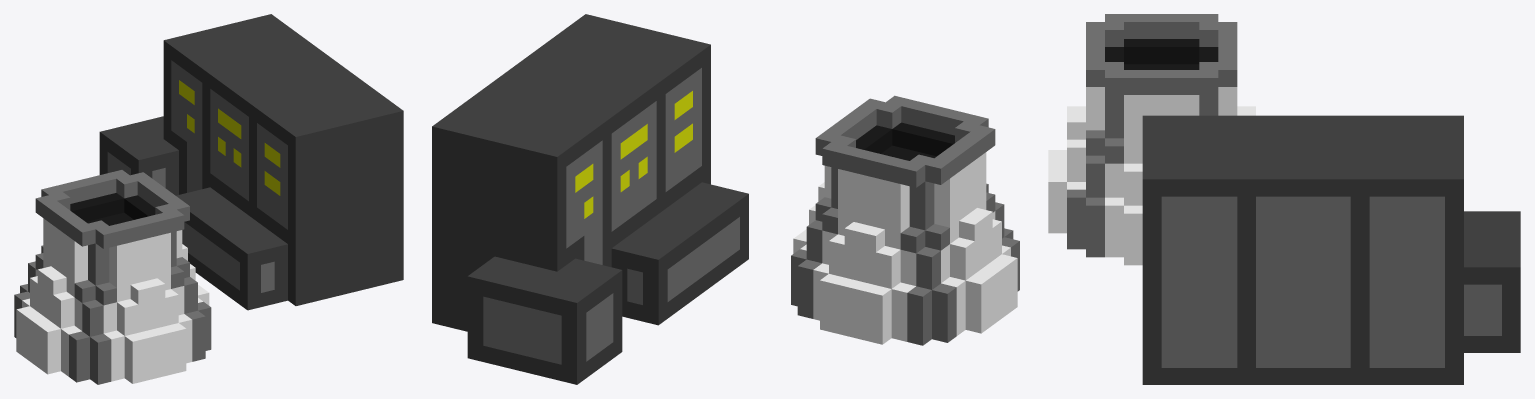
The model's file is TPP_building.obj.
The picture shows the model from 3 angles, left to right: view 1: azimuth 30°, elevation 25°; view 2: azimuth 150°, elevation 25°; view 3: azimuth 270°, elevation 25°; orthographic projection. The views are drawn at different scales.
Size of the model in its own units: 2.7 by 1.2 by 2.5.
Materials: 1 (1 with a texture image).
